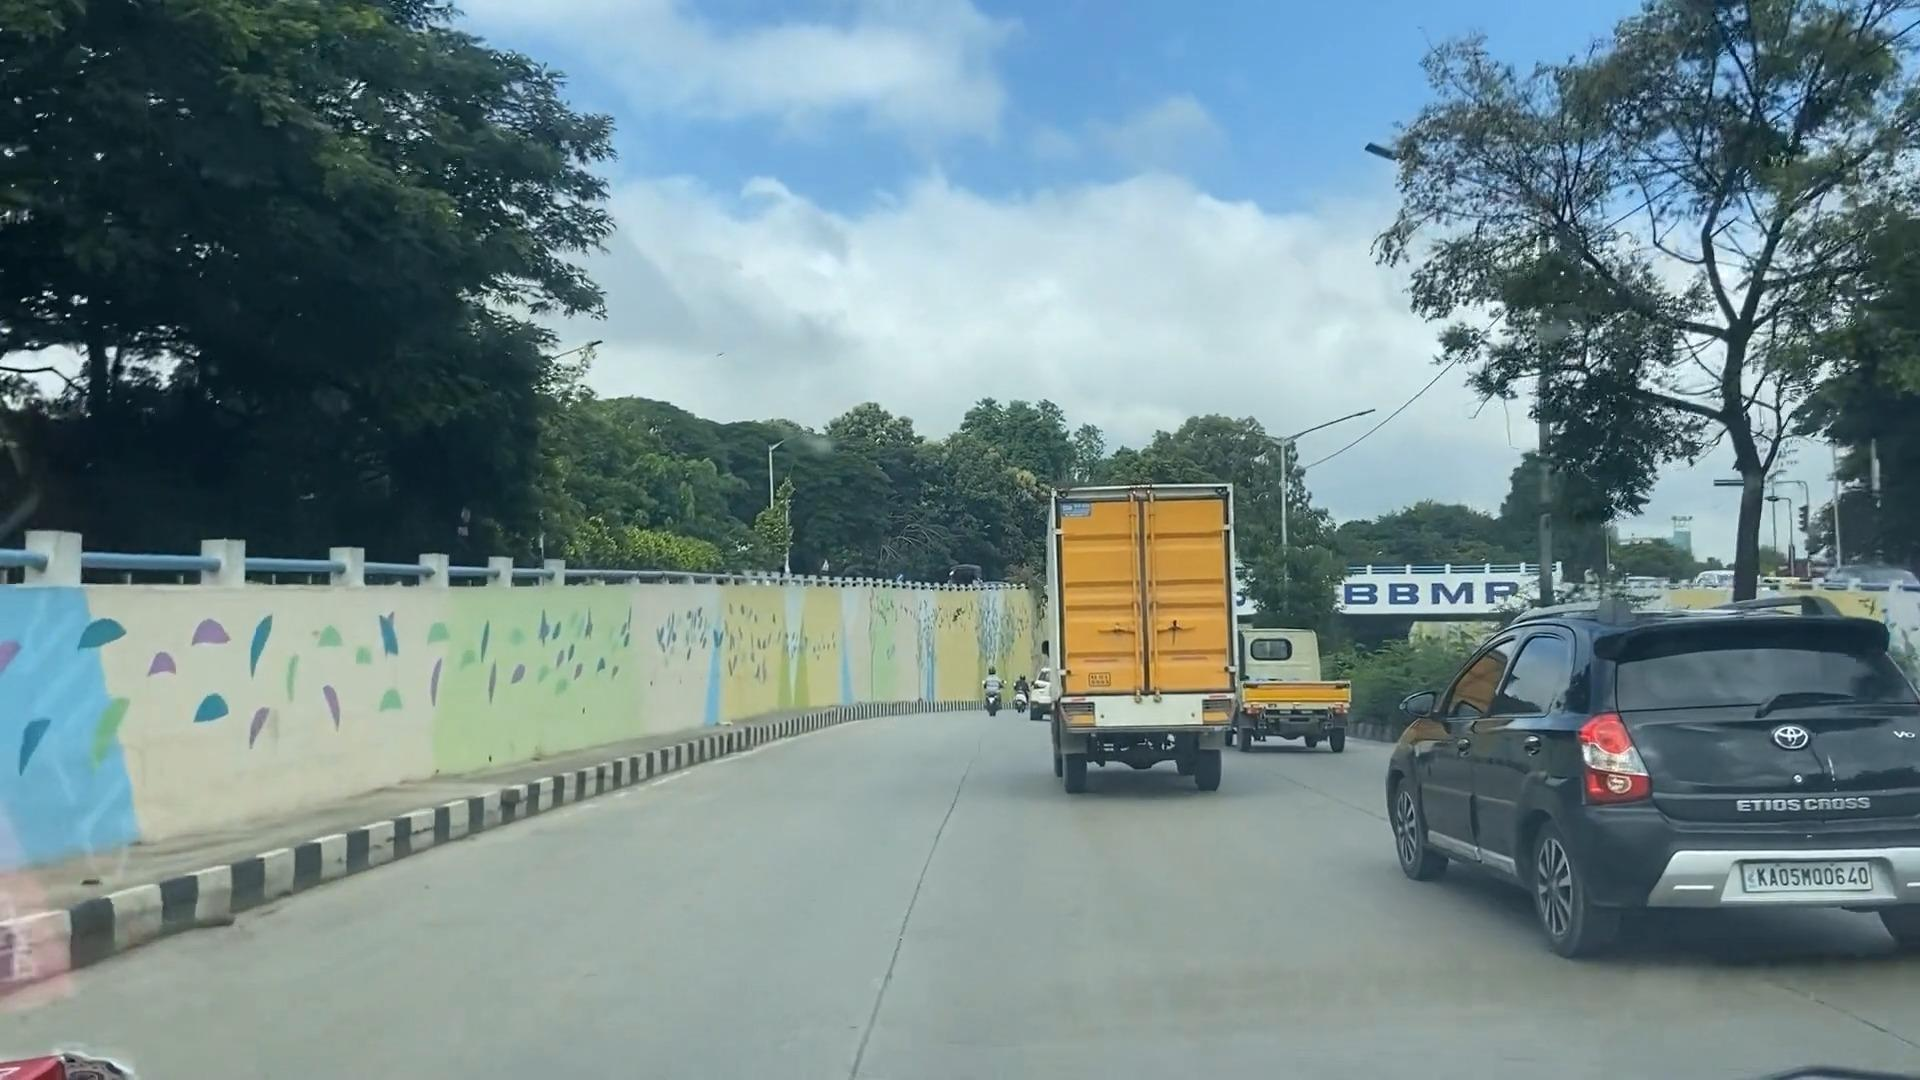HMV: (1047, 495, 1233, 779)
LMV: (1371, 622, 1920, 945)
